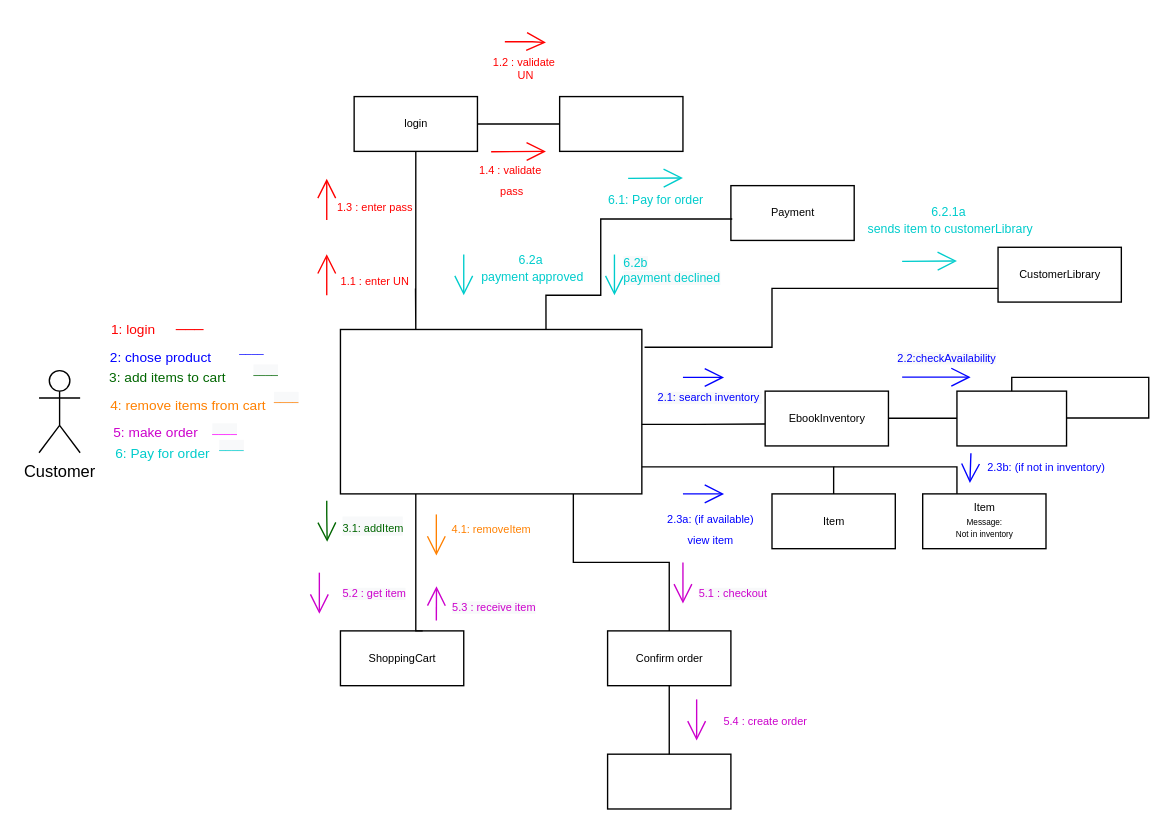
Some shapes in this 1174 by 833 pixel diagram are drawn without their labels. Each missing label, with the centre of its shape:
"checkAvailability" belongs at [1011,418].
"CustomerAccount" belongs at [620,123].
"EbookShopping" belongs at [490,411].
"Order" belongs at [668,781].
